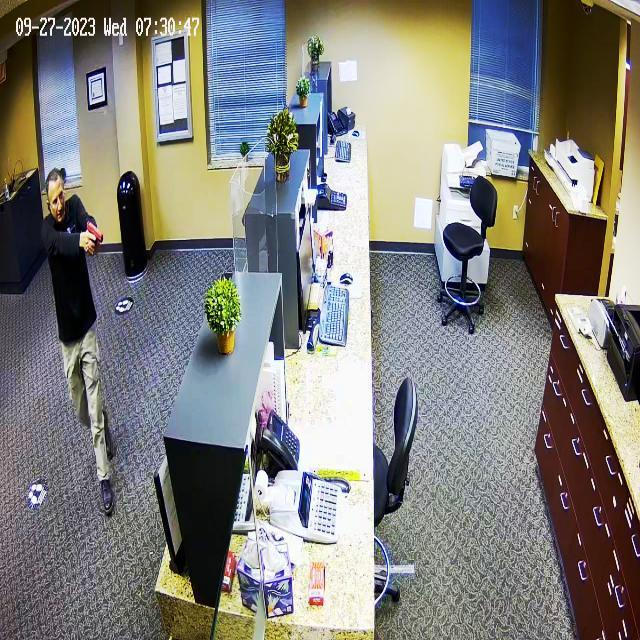Gun: (82, 219, 119, 252)
